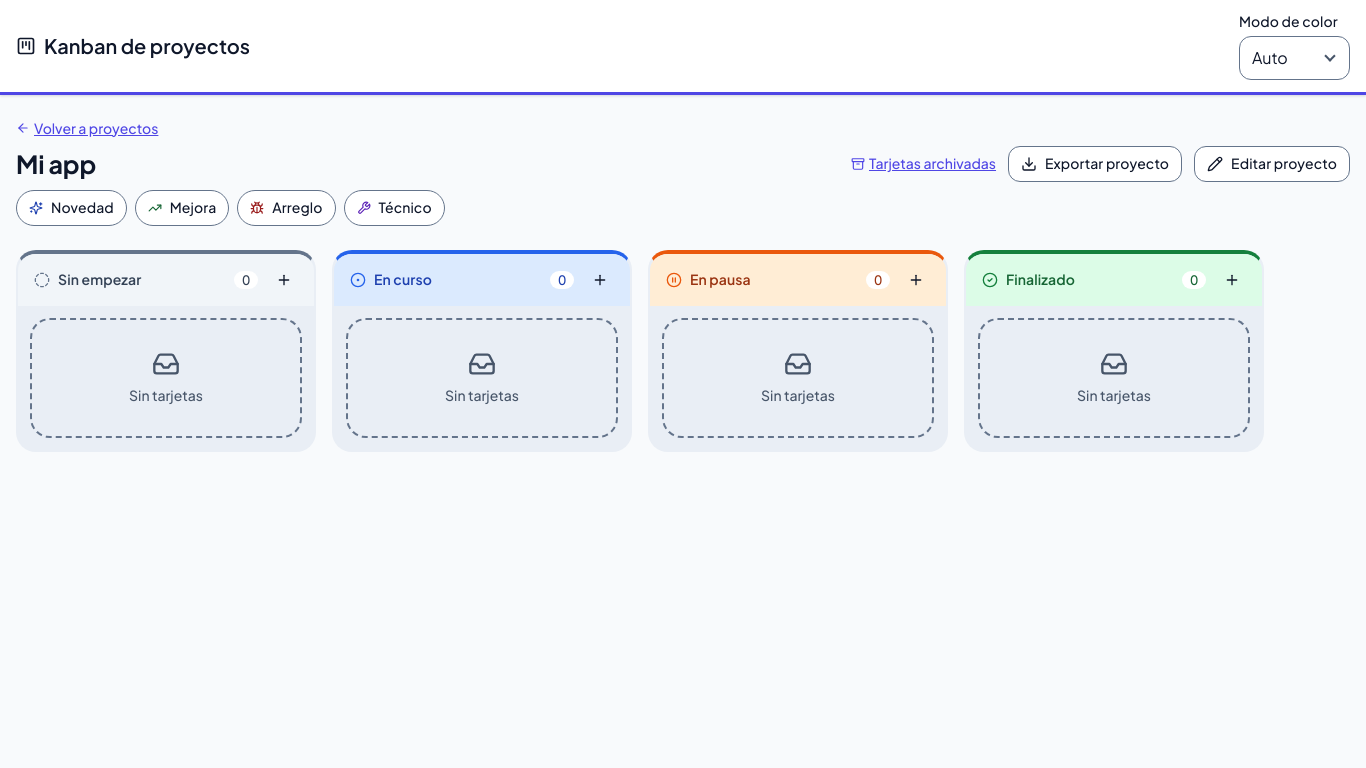
Scenario: App › editar el proyecto desde el tablero actualiza el nombre de la cabecera
Expected: the heading "Mi app" is shown, [16,148,96,180]
Step 1. Click the button "Editar proyecto" → point(1272, 164), box [1194,146,1350,182]
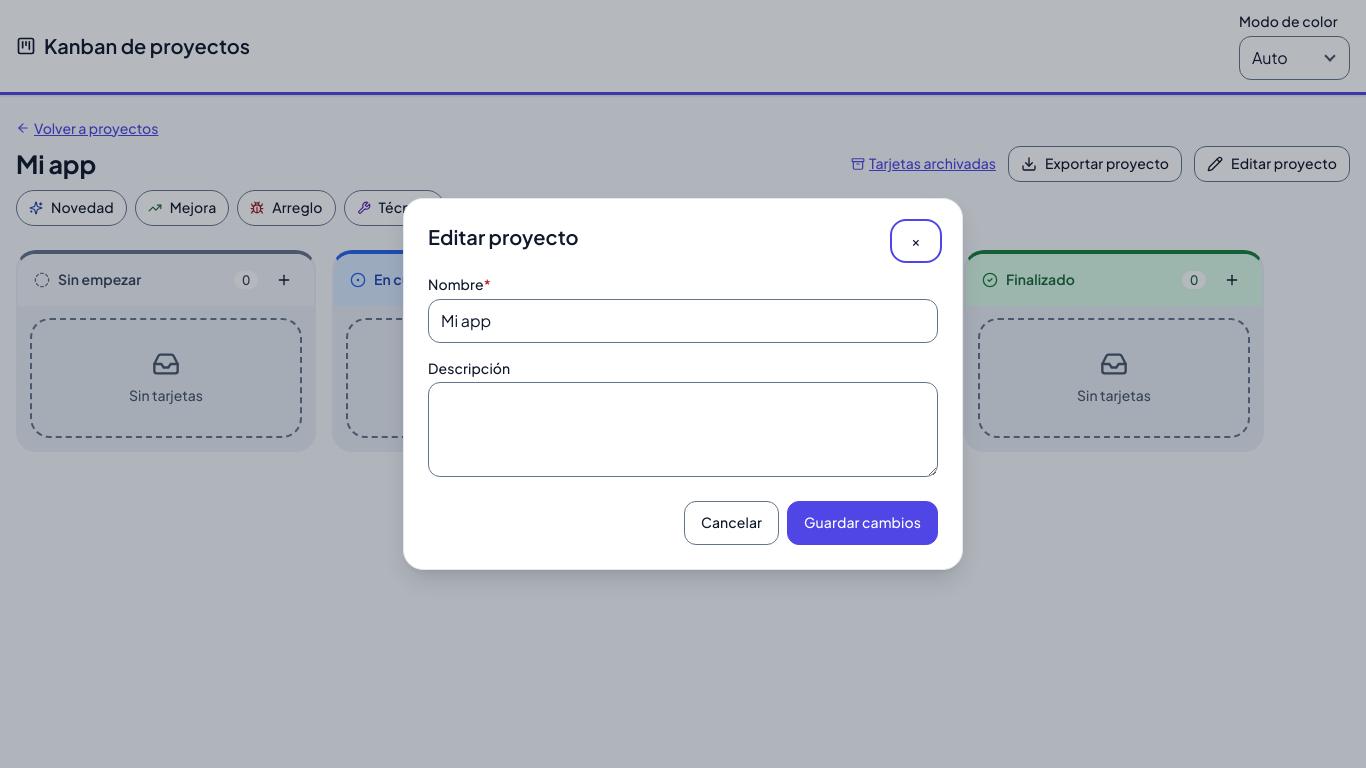
Step 2. Replace the text in the field labelled "Nombre*" with "Renombrada" → point(683, 321), box [428,299,938,343]
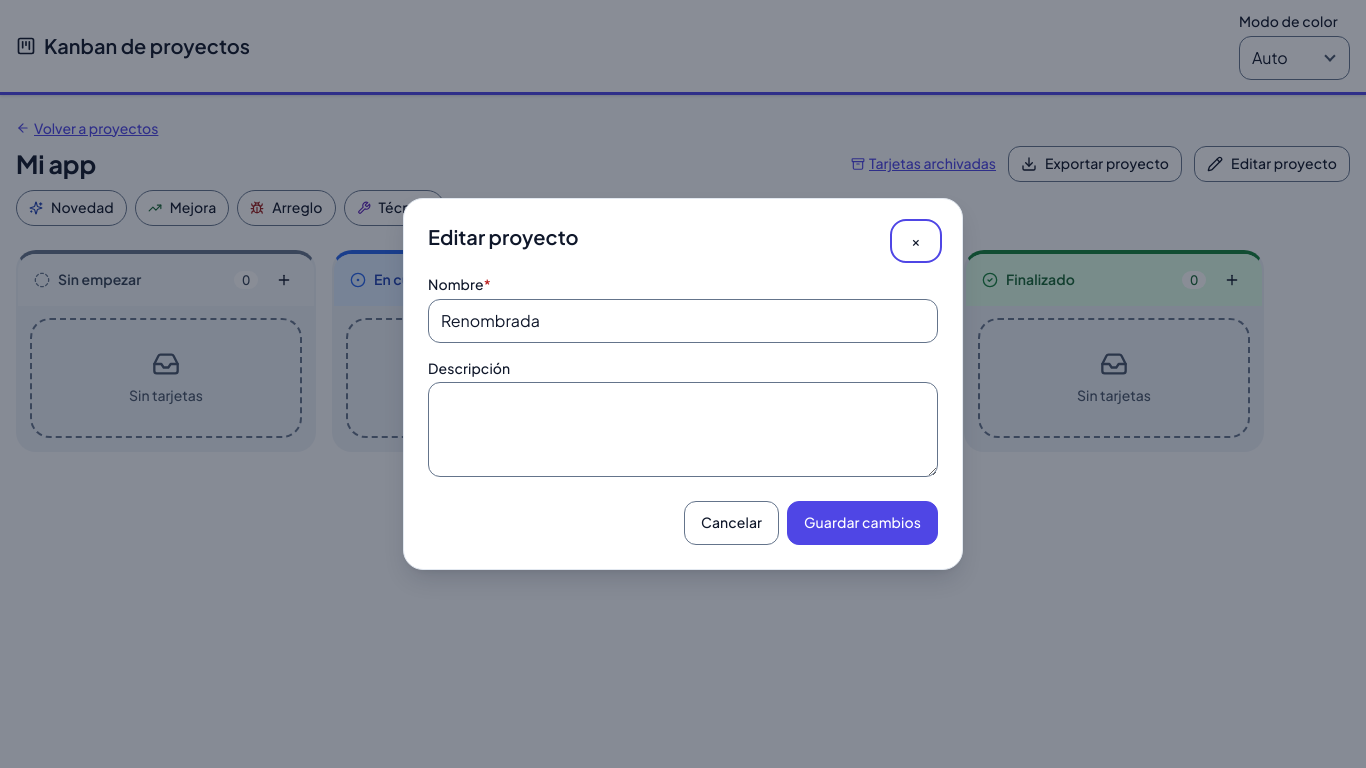
Step 3. Click the button "Guardar cambios" → point(863, 523), box [787,501,938,545]
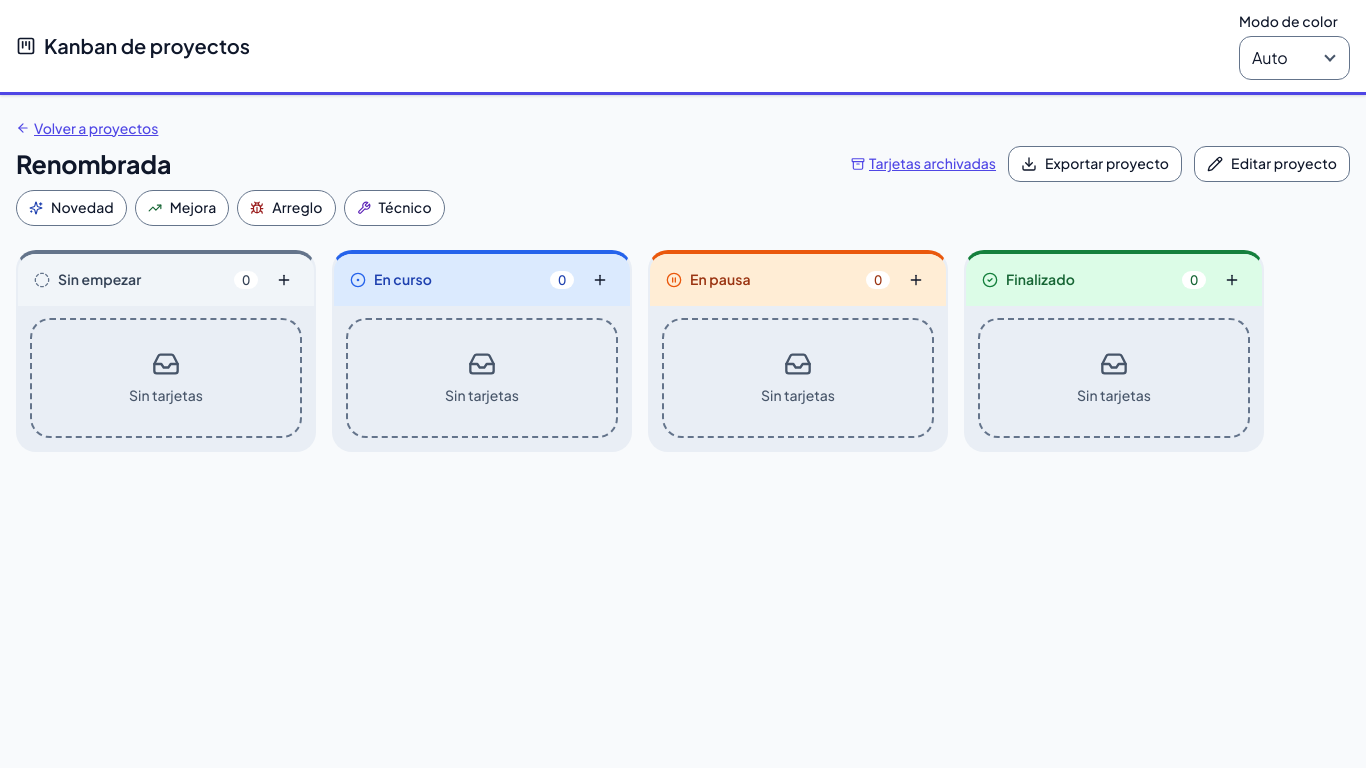
Result: the heading "Renombrada" is shown at [16,148,171,180]
